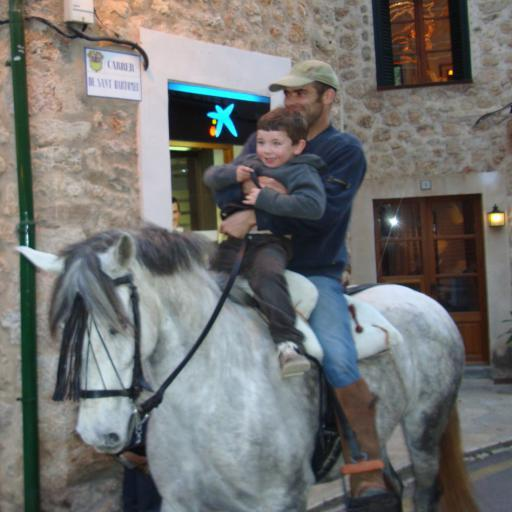Horse: (16, 224, 478, 512)
